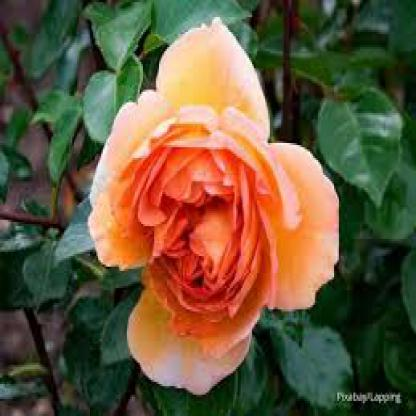Rose-Mawar: (85, 18, 342, 396)
